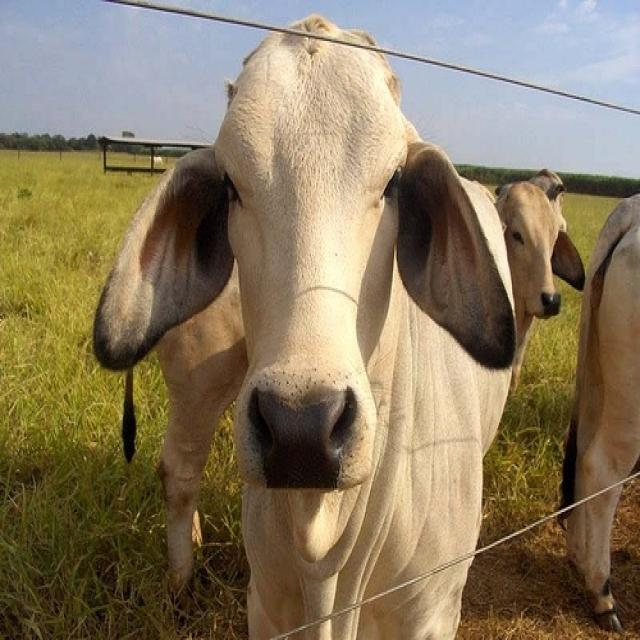cow: (66, 5, 525, 640)
